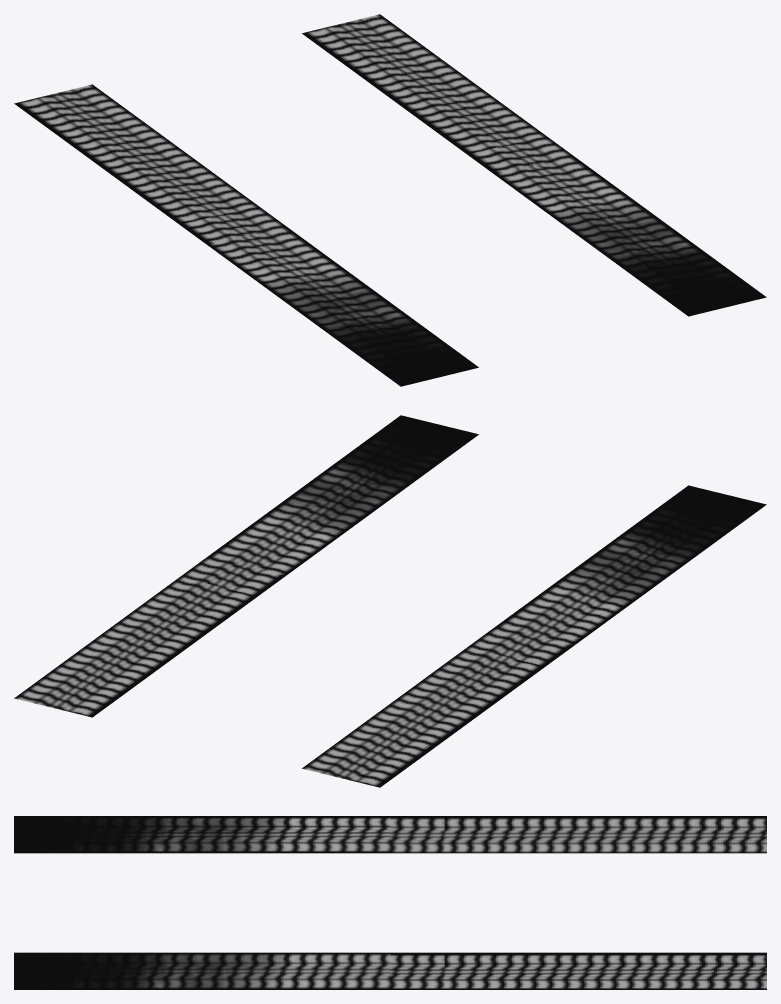
File: Model_TireMarks_Straight_Fade.fbx
3 renders of one model, top to bottom at view 1: azimuth 30°, elevation 25°; view 2: azimuth 150°, elevation 25°; view 3: azimuth 270°, elevation 25°, orthographic. The views are drawn at different scales.
Parts seen in each view (by area): view 1: TireMarks_Straight_Fade; view 2: TireMarks_Straight_Fade; view 3: TireMarks_Straight_Fade.
Part boxes in pixels (<box>): TireMarks_Straight_Fade: <box>14,14,766,386</box>; TireMarks_Straight_Fade: <box>14,415,766,787</box>; TireMarks_Straight_Fade: <box>14,816,766,989</box>.
Size of the model in its own units: 187 by 7.62e-14 by 343.
